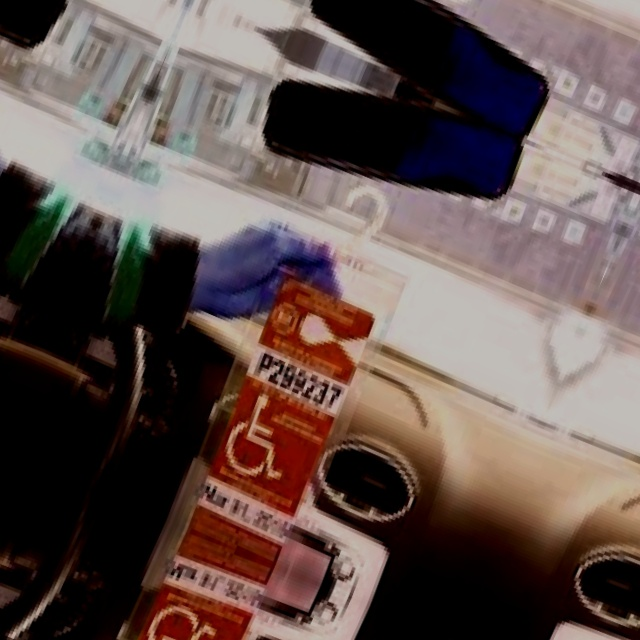ISA: (215, 385, 310, 493), (128, 593, 223, 640)
